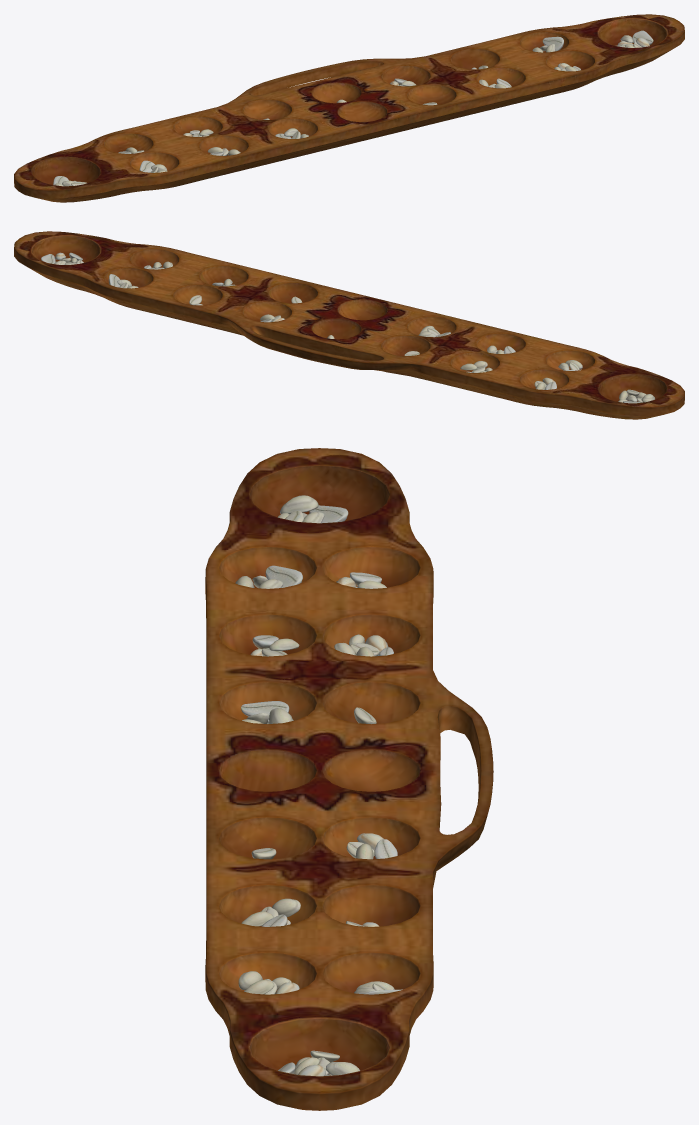
The picture shows the model from 3 angles, top to bottom: view 1: azimuth 30°, elevation 25°; view 2: azimuth 150°, elevation 25°; view 3: azimuth 270°, elevation 25°; orthographic projection. The views are drawn at different scales.
Visible parts, largest first — view 1: sungka_board_02, sungka_board_02_shells; view 2: sungka_board_02, sungka_board_02_shells; view 3: sungka_board_02, sungka_board_02_shells.
Part boxes in pixels (left/top/right/bottom): sungka_board_02: left=14, top=14, right=684, bottom=202; sungka_board_02_shells: left=53, top=30, right=653, bottom=186; sungka_board_02: left=14, top=231, right=684, bottom=419; sungka_board_02_shells: left=41, top=252, right=654, bottom=403; sungka_board_02: left=205, top=448, right=493, bottom=1110; sungka_board_02_shells: left=235, top=495, right=402, bottom=1076.
Bounding box in the file's own units: 0.9317 × 0.0258 × 0.1757.
1 material, 1 textured.
